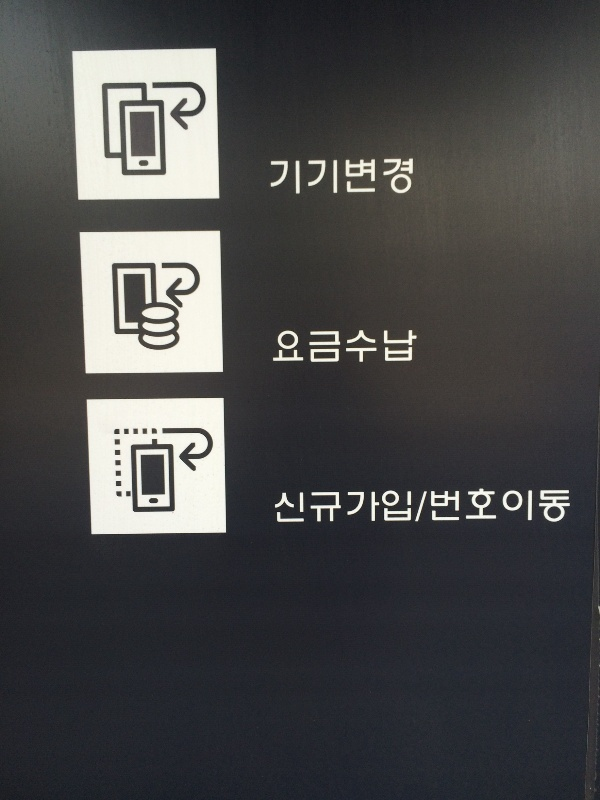text: (273, 158, 288, 196), (289, 158, 304, 196), (305, 158, 320, 196), (321, 158, 336, 196), (337, 158, 352, 196), (353, 158, 368, 196), (369, 158, 384, 196), (385, 158, 400, 196), (401, 329, 417, 364), (433, 487, 448, 524), (449, 487, 464, 524), (465, 487, 480, 524), (481, 487, 496, 524), (497, 487, 512, 524), (513, 487, 528, 524), (529, 487, 544, 524), (545, 487, 560, 524), (289, 329, 304, 364), (305, 329, 320, 364), (321, 329, 336, 364), (337, 329, 352, 364), (353, 329, 368, 364), (369, 329, 384, 364), (385, 329, 400, 364), (273, 491, 288, 524), (289, 491, 304, 524), (305, 491, 320, 524), (321, 491, 336, 524), (337, 491, 352, 524), (353, 491, 368, 524), (369, 491, 384, 524), (385, 491, 400, 524), (401, 491, 416, 524), (401, 158, 414, 196), (276, 329, 288, 364), (417, 491, 428, 524), (561, 487, 570, 524), (270, 158, 272, 196), (431, 487, 432, 524)
